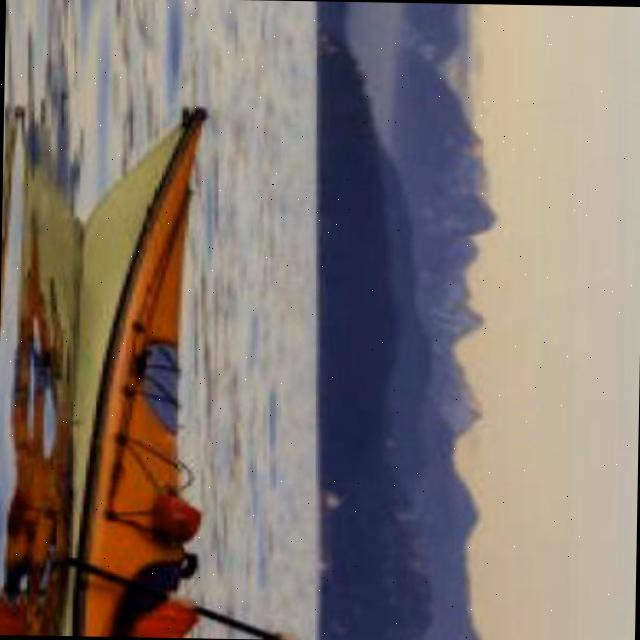kayak: (66, 106, 207, 637)
